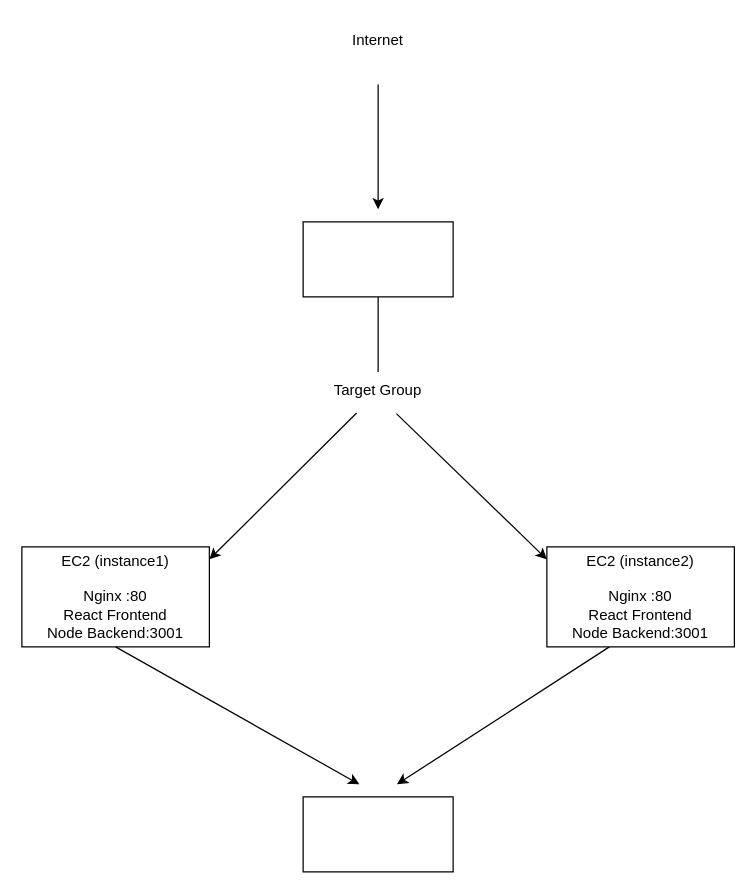
Image size: 756x894. Some labels were removed from this diagram. The shapes that lost their labels are listed below. From the top down, each one's centre as x and y in pixels, then its label:
At point (377, 259): "Application Load Balancer".
At point (377, 834): "MongoDB Atlas".
